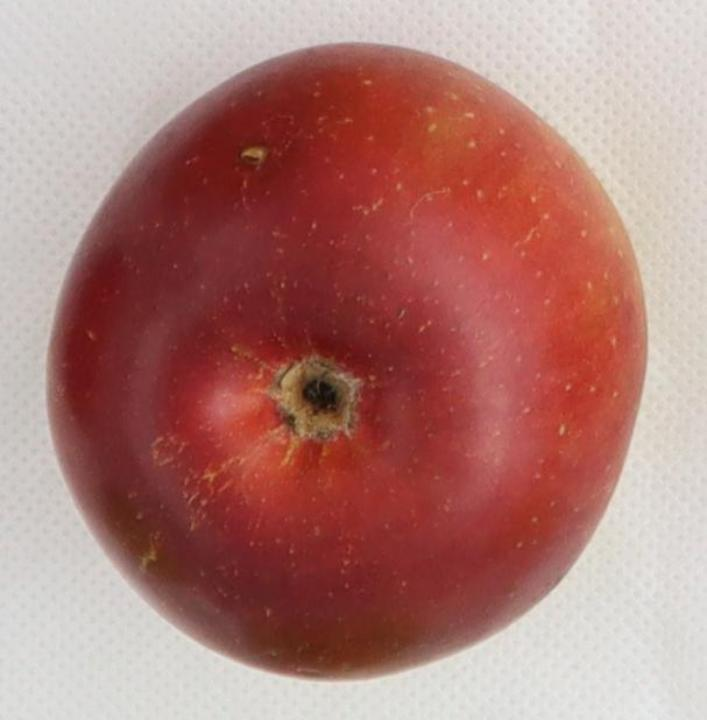apple: (48, 44, 645, 678)
surface_damage: (240, 144, 268, 167)
